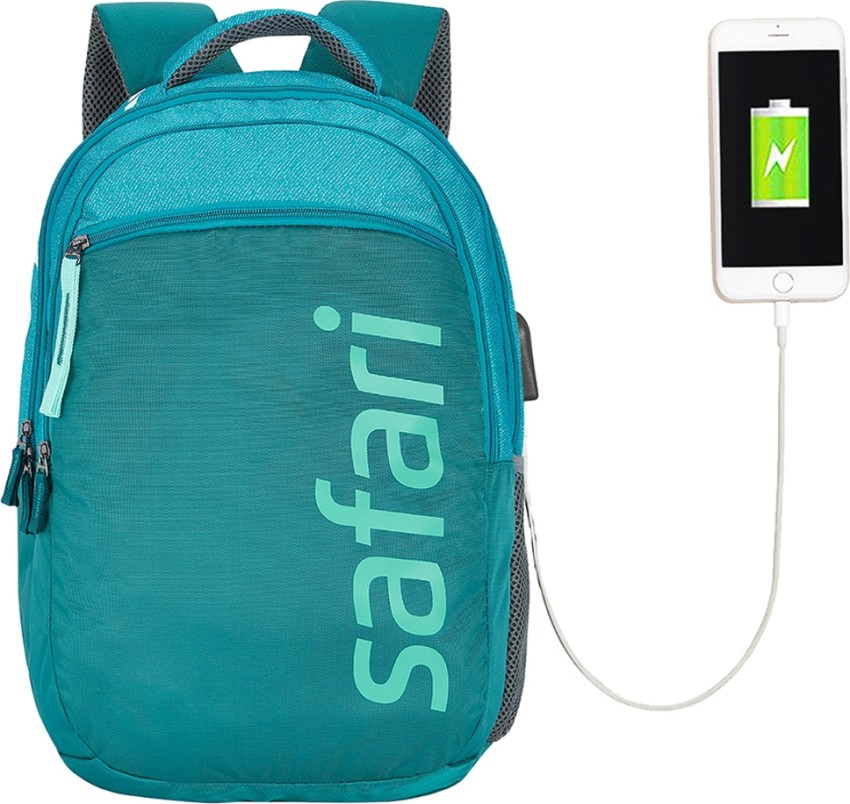backpack: (2, 1, 625, 802)
